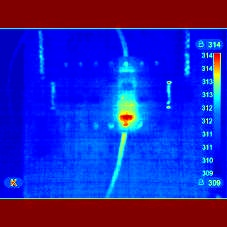High: (115, 97, 145, 133)
